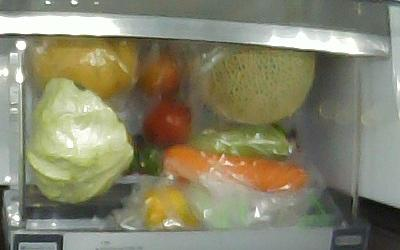cabbage: (26, 79, 133, 202)
carrot_vinyl: (161, 144, 308, 193)
melon_vinyl: (194, 44, 316, 126)
pear_vinyl: (31, 38, 138, 98)
prune_vinyl: (134, 52, 182, 100), (143, 101, 192, 145)
tangerine_vinyl: (141, 186, 197, 231)
zucchini_vinyl: (133, 126, 290, 175)
